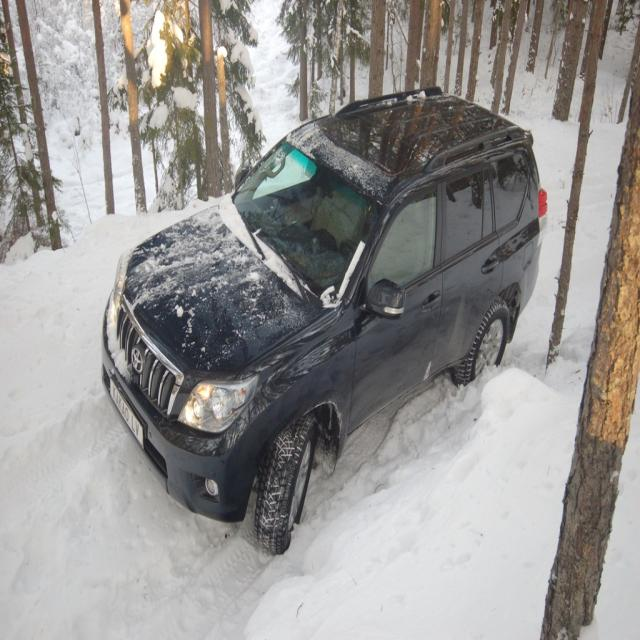car: (101, 77, 550, 555)
